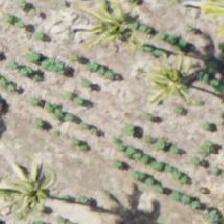coconut_tree: (132, 32, 222, 122), (64, 0, 154, 69), (0, 140, 74, 223)
